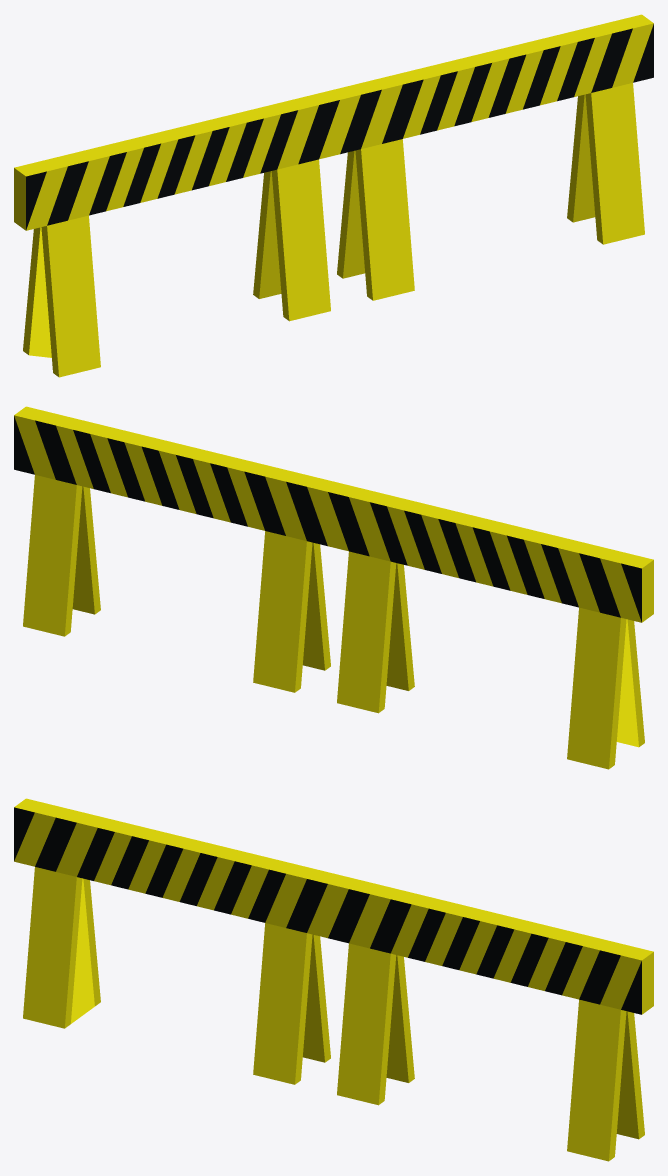
The model's file is ObstacleTwoPiece.fbx.
The picture shows the model from 3 angles, top to bottom: view 1: azimuth 30°, elevation 25°; view 2: azimuth 150°, elevation 25°; view 3: azimuth 330°, elevation 25°; orthographic projection.
Parts seen in each view (by area): view 1: Cube.001; view 2: Cube.001; view 3: Cube.001.
Boxes of the visible parts, x1=… form: Cube.001: x1=14, y1=14, x2=653, y2=377; Cube.001: x1=14, y1=406, x2=653, y2=769; Cube.001: x1=14, y1=798, x2=653, y2=1161.
Bounding box in the file's own units: 300 × 90.05 × 30.
